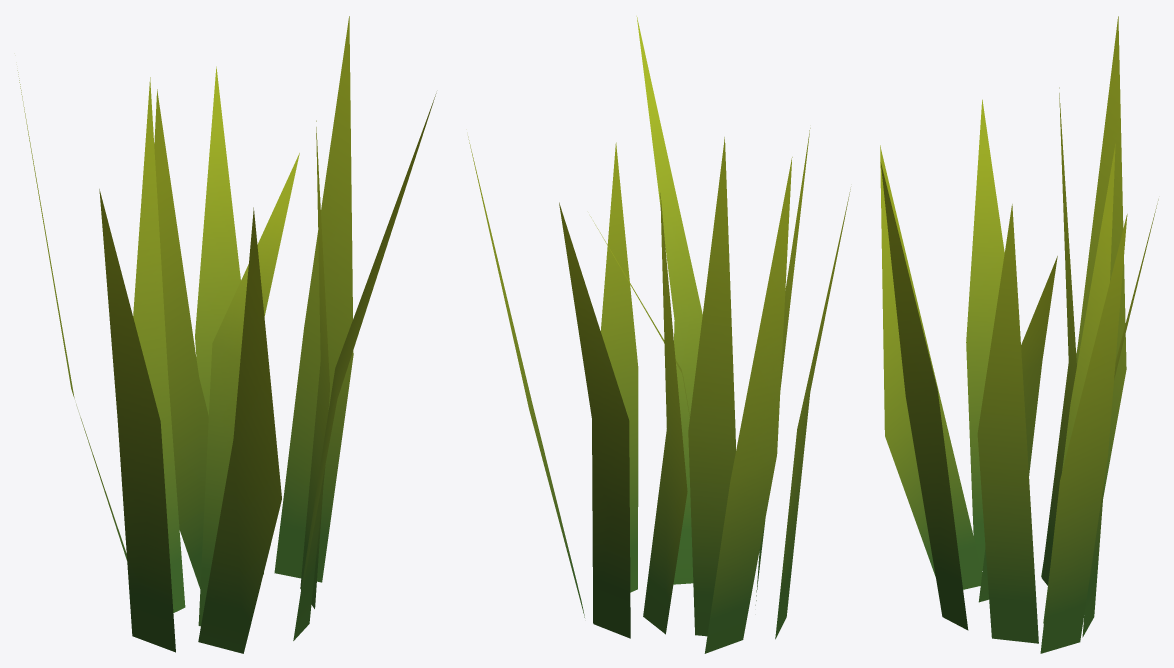
Rendered from grass.glb.
3 renders of one model, left to right at view 1: azimuth 30°, elevation 25°; view 2: azimuth 150°, elevation 25°; view 3: azimuth 270°, elevation 25°, orthographic. The views are drawn at different scales.
Visible parts, largest first — view 1: grass; view 2: grass; view 3: grass.
Boxes of the visible parts, <box> form: grass: <box>17,16,436,653</box>; grass: <box>468,16,850,653</box>; grass: <box>880,16,1158,653</box>.
Bounding box in the file's own units: 0.4534 × 0.7206 × 0.3509.
Materials: 1 (1 with a texture image).
